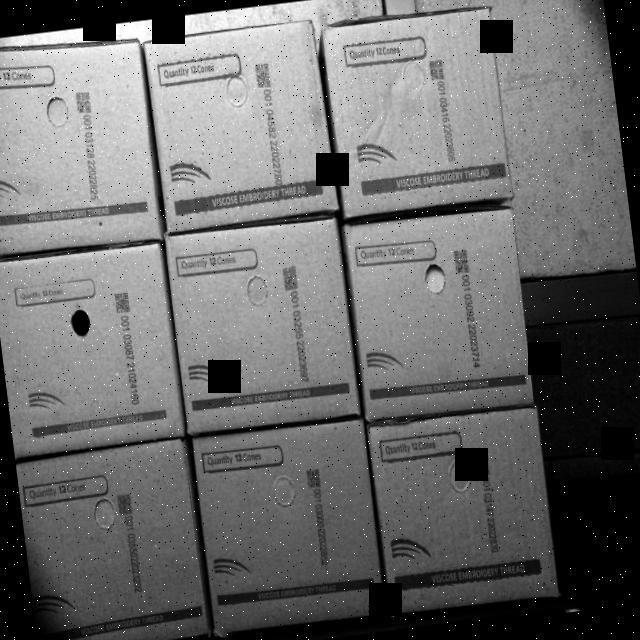box: (163, 212, 360, 431), (188, 414, 383, 633), (321, 2, 513, 219), (340, 205, 531, 422), (369, 407, 562, 618), (146, 16, 336, 229), (14, 438, 210, 640), (0, 243, 185, 455), (0, 31, 163, 262)
